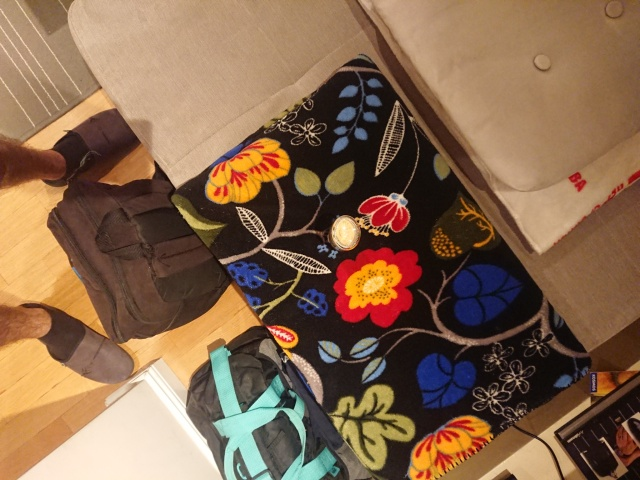Kotanyi Garlic Granules 70g: (327, 213, 363, 255)
